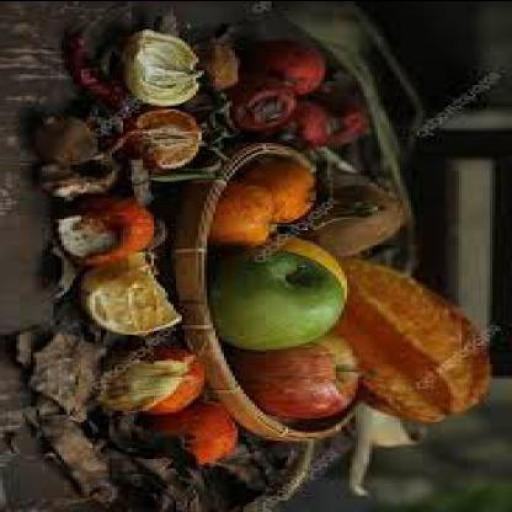biodegradable: (345, 259, 492, 423), (213, 252, 347, 358), (68, 35, 154, 166), (238, 337, 376, 417), (81, 254, 187, 334), (22, 335, 118, 421), (118, 421, 207, 508), (311, 186, 414, 253), (124, 30, 212, 108), (59, 198, 163, 264), (39, 419, 115, 495), (266, 235, 352, 302), (151, 404, 244, 464), (244, 161, 327, 227), (137, 346, 210, 417), (246, 41, 330, 97), (131, 112, 207, 171), (218, 181, 280, 247), (34, 112, 104, 166), (232, 76, 302, 128), (277, 104, 338, 154), (198, 39, 252, 91), (48, 162, 114, 199), (327, 93, 372, 147)
